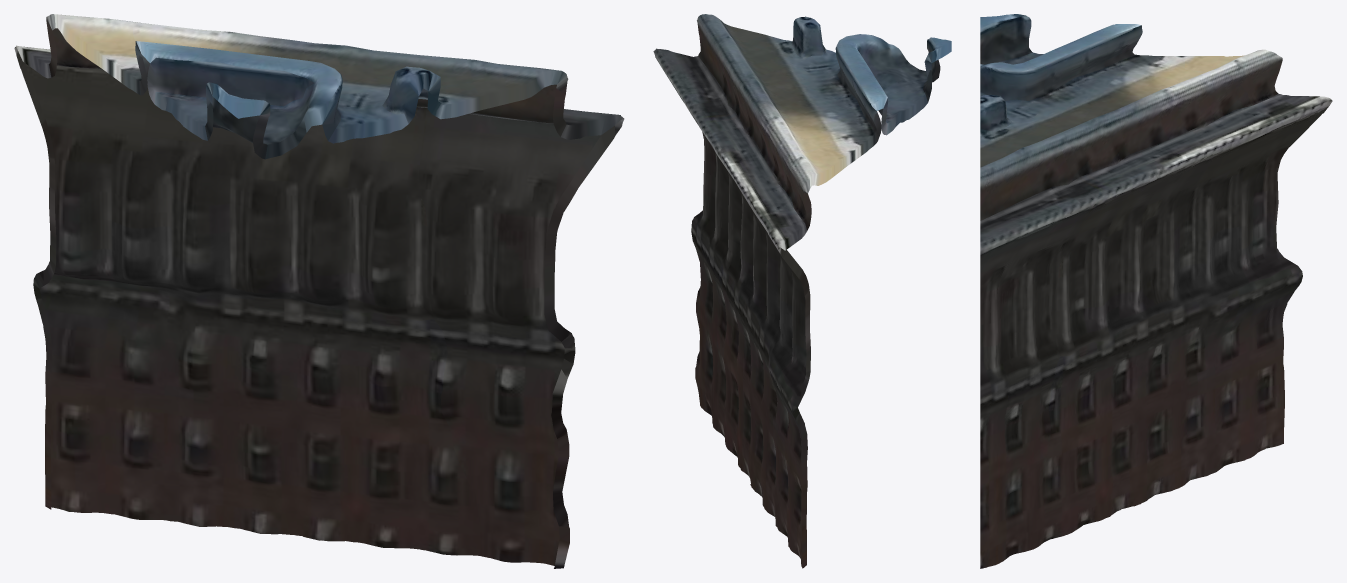
The model's file is z20-167786-405225-h1-yup-uvflip-v3-world.glb.
3 renders of one model, left to right at view 1: azimuth 30°, elevation 25°; view 2: azimuth 150°, elevation 25°; view 3: azimuth 270°, elevation 25°, orthographic. The views are drawn at different scales.
Bounding box in the file's own units: 17.88 × 24.16 × 17.96.
Materials: 1 (1 with a texture image).
